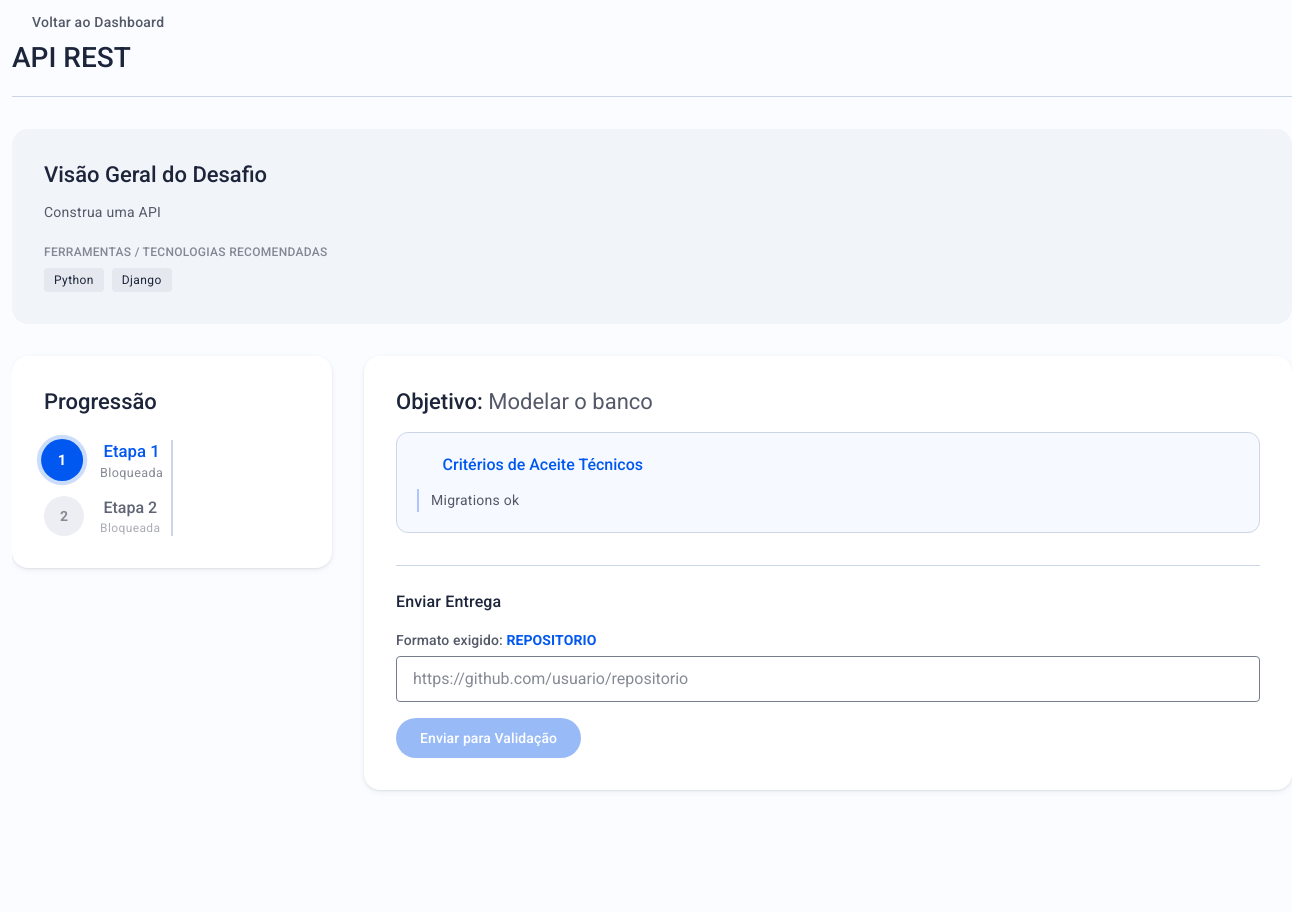
Test: ProjectWorkspace › mostra o erro devolvido pela API no envio
Type "https://github.com/aluno/api" into the field with placeholder "https://github.com/usuario/repositorio" at (828, 678), box [396,656,1260,702]
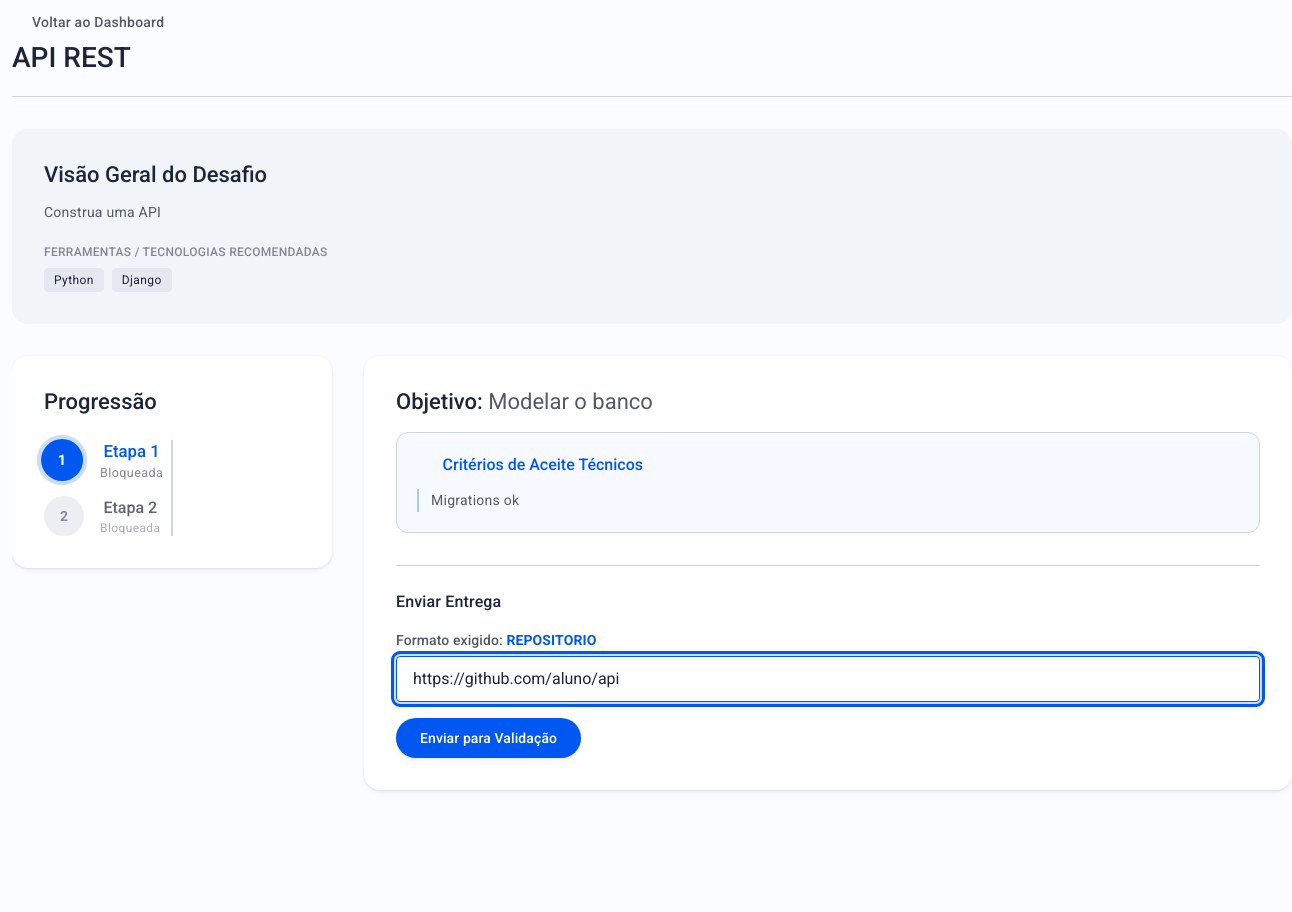
Click the button "Enviar para Validação" at (489, 738), box [396,718,581,758]
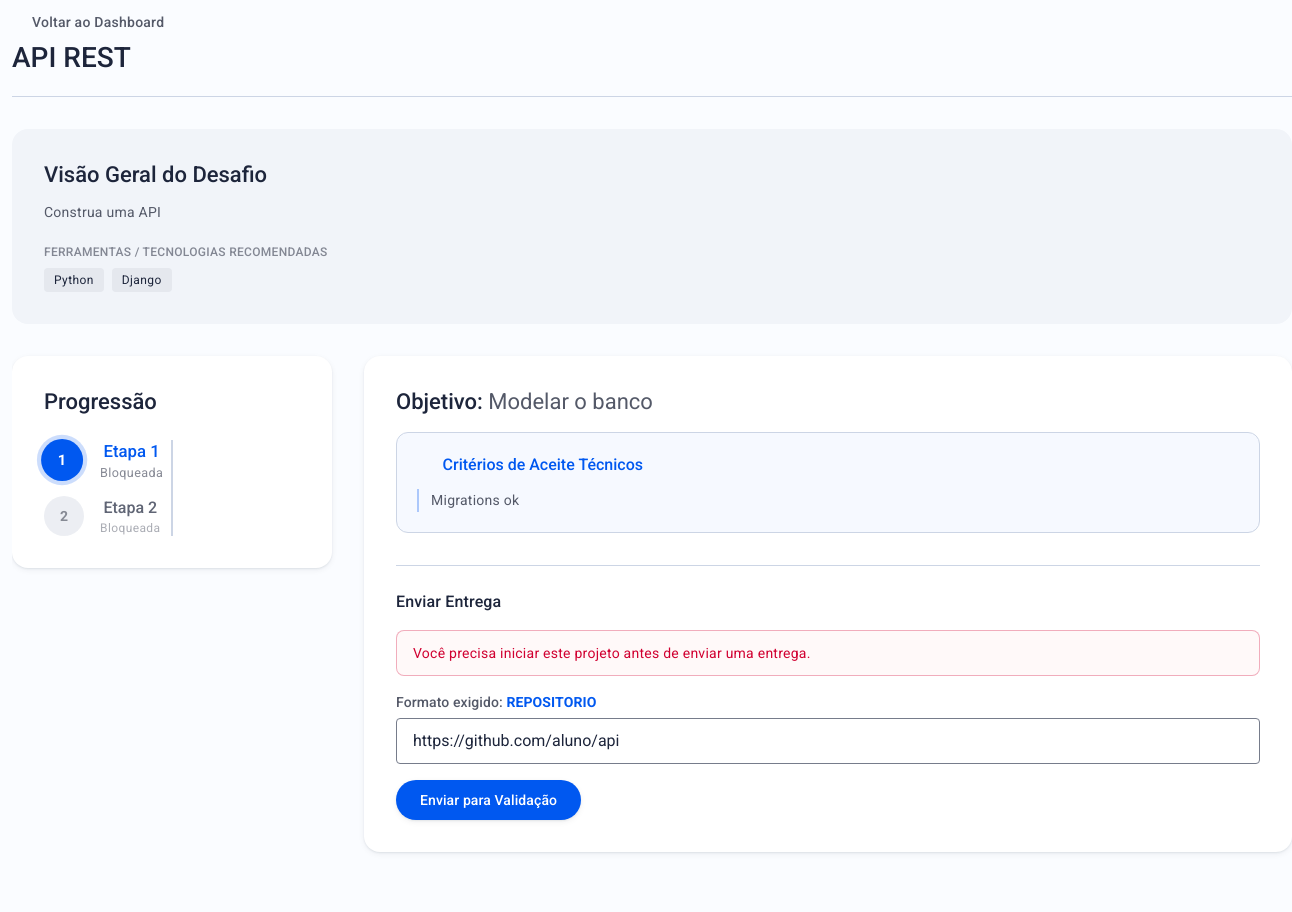
Expected: the text "Você precisa iniciar este projeto antes de enviar uma entrega." is shown, [396,630,1260,676]
